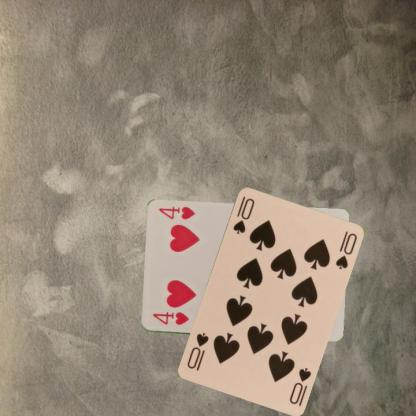10s: (230, 193, 256, 235), (286, 364, 312, 406)
4h: (150, 310, 190, 326)
